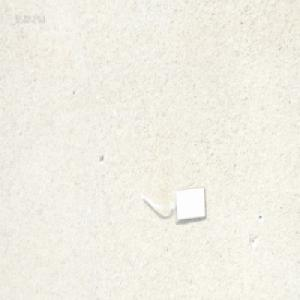LuggageTag: (135, 181, 206, 223)
